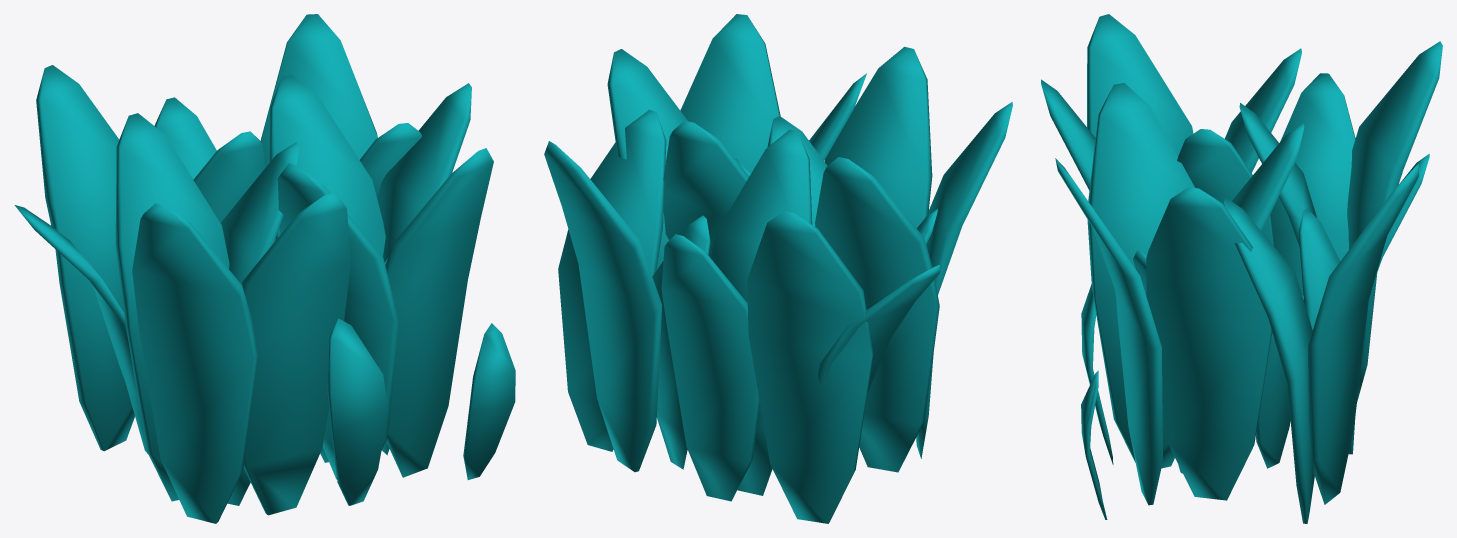
The model's file is Grass_M.fbx.
3 renders of one model, left to right at view 1: azimuth 30°, elevation 25°; view 2: azimuth 150°, elevation 25°; view 3: azimuth 270°, elevation 25°, orthographic.
Visible parts, largest first — view 1: Grass_M; view 2: Grass_M; view 3: Grass_M.
Part boxes in pixels (x1,y1,x2,y2): Grass_M: [14, 14, 515, 523]; Grass_M: [544, 14, 1012, 523]; Grass_M: [1041, 14, 1442, 523].
Bounding box in the file's own units: 174 × 147 × 153.
